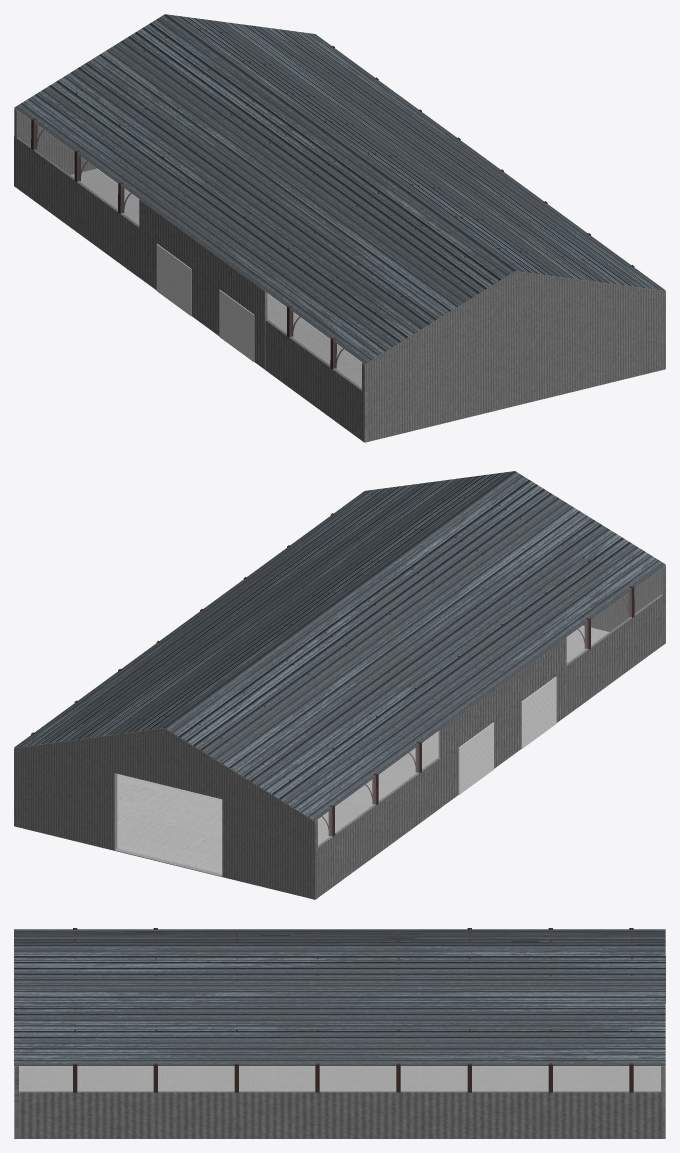
The model's file is Lineal_cuartofrio_atras.fbx.
The picture shows the model from 3 angles, top to bottom: view 1: azimuth 30°, elevation 25°; view 2: azimuth 150°, elevation 25°; view 3: azimuth 270°, elevation 25°; orthographic projection. The views are drawn at different scales.
Parts seen in each view (by area): view 1: pPlane6, polySurface34, pPlane5, polySurface35, polySurface31, polySurface36, polySurface29, polySurface37, polySurface27, pCube19, pCube20, polySurface32 (+2 smaller); view 2: pPlane6, pPlane5, polySurface32, polySurface29, polySurface35, polySurface31, polySurface36, polySurface37, polySurface27, pCube19, pCube20, polySurface34 (+2 smaller); view 3: pPlane5, polySurface30, polySurface29, polySurface28, pPlane6, polySurface33, polySurface38, polySurface34.
Boxes of the visible parts, x1,y1,x2,y2 form: pPlane6: [14, 14, 514, 363]; polySurface34: [362, 271, 665, 441]; pPlane5: [165, 14, 665, 290]; polySurface35: [139, 199, 267, 369]; polySurface31: [14, 136, 139, 277]; polySurface36: [265, 319, 366, 442]; polySurface29: [71, 168, 362, 387]; polySurface37: [16, 110, 139, 226]; polySurface27: [265, 292, 361, 389]; pCube19: [156, 244, 191, 316]; pCube20: [219, 289, 254, 361]; polySurface32: [14, 108, 96, 174]; pPlane6: [165, 471, 665, 820]; pPlane5: [14, 471, 514, 747]; polySurface32: [14, 728, 317, 899]; polySurface29: [117, 625, 609, 873]; polySurface35: [438, 637, 566, 807]; polySurface31: [313, 757, 440, 899]; polySurface36: [566, 593, 665, 715]; polySurface37: [318, 730, 439, 847]; polySurface27: [566, 567, 662, 664]; pCube19: [458, 722, 493, 794]; pCube20: [521, 676, 556, 748]; polySurface34: [583, 565, 665, 631]; pPlane5: [14, 945, 665, 1065]; polySurface30: [19, 1091, 665, 1138]; polySurface29: [19, 1066, 660, 1091]; polySurface28: [19, 1066, 664, 1091]; pPlane6: [14, 929, 665, 944]; polySurface33: [315, 928, 633, 1092]; polySurface38: [73, 928, 238, 1092]; polySurface34: [14, 1066, 18, 1138].
Size of the model in its own units: 20.07 by 8.59 by 40.33.
Materials: 10 (6 with a texture image).
